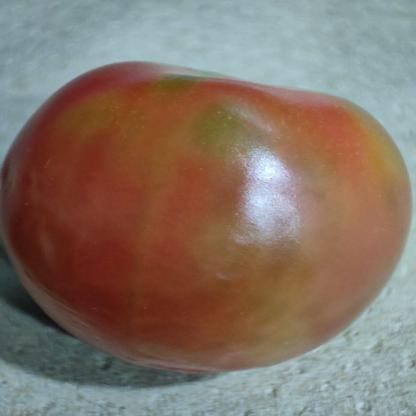T_F_R: (2, 62, 411, 374)
